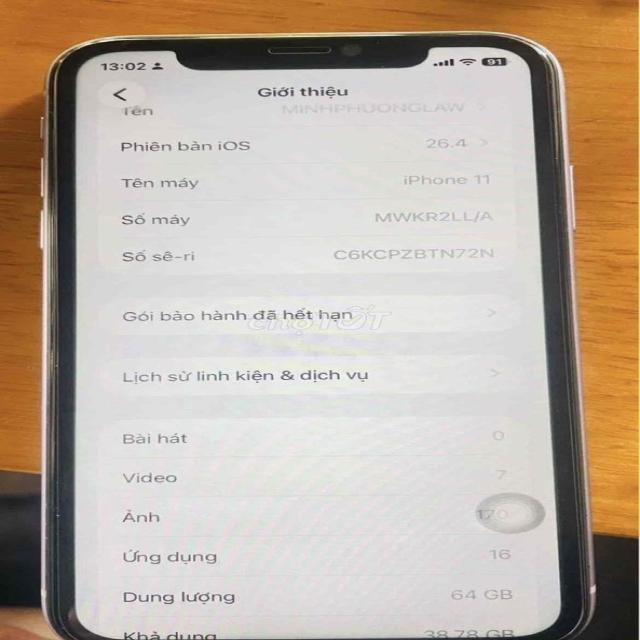gen_11: (43, 28, 604, 640)
